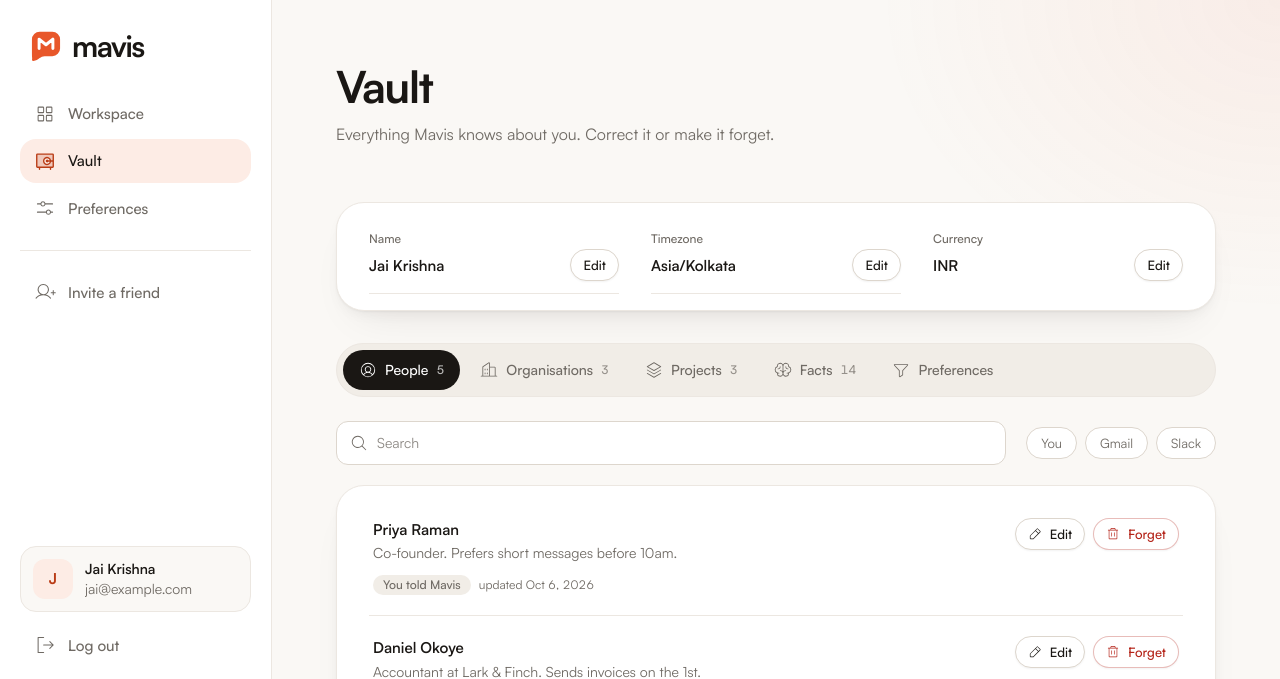
vault › opens the profile editor from a separate Edit button
This screenshot has width=1280, height=679.
Click the button with aria-label "Edit name" at (595, 265), box top-left (570, 249), bottom-right (619, 281)
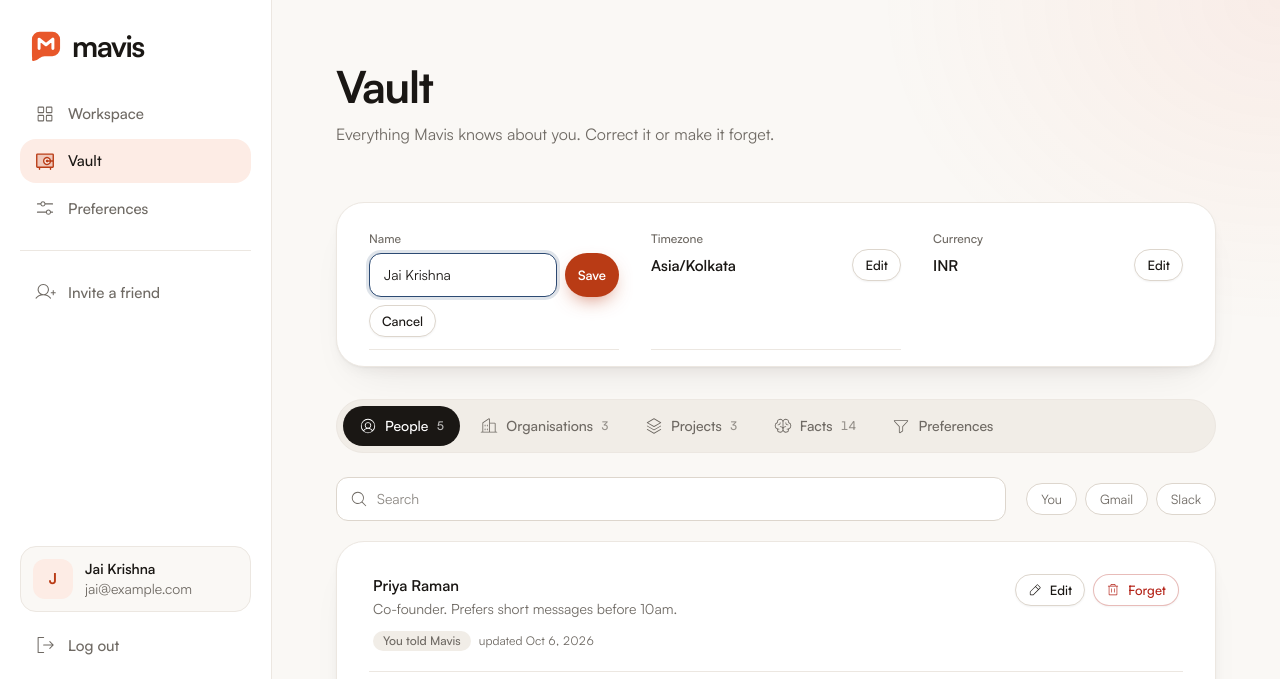
Result: the field named "Edit name" is shown at top-left (369, 253), bottom-right (557, 297)
